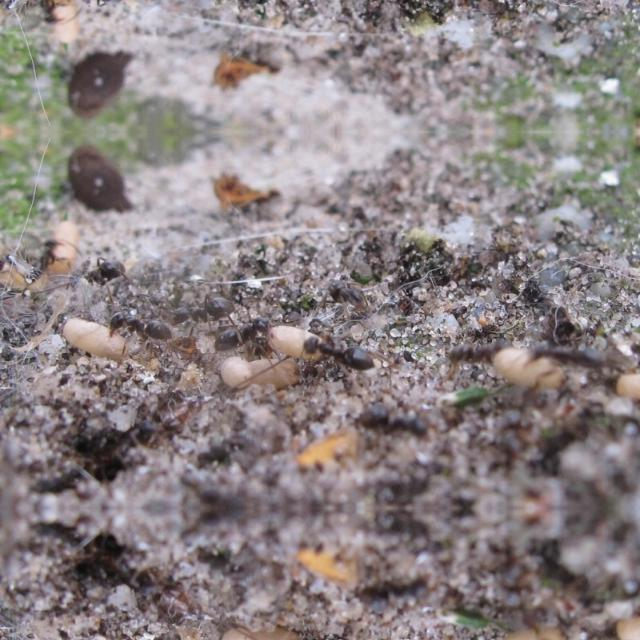Lasius: (300, 328, 398, 389), (525, 326, 625, 380), (166, 277, 238, 333), (213, 305, 287, 359), (106, 300, 176, 350), (321, 269, 379, 319), (447, 322, 501, 370), (73, 253, 137, 290), (298, 624, 398, 640), (73, 0, 137, 8)
